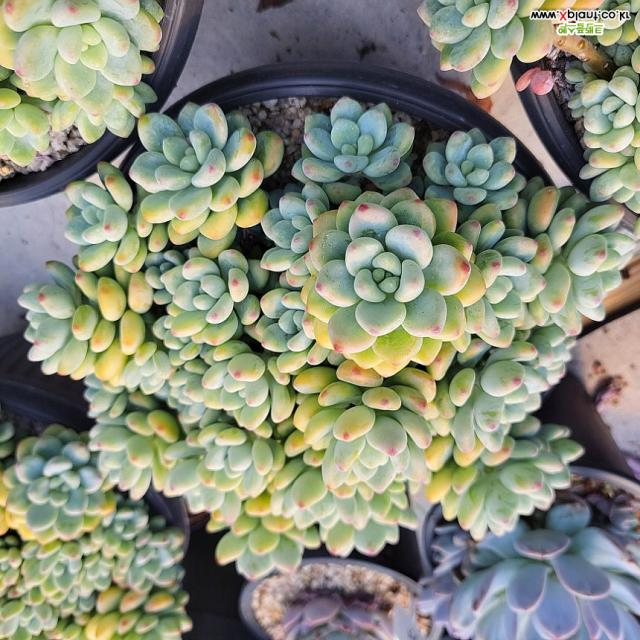LumiRose: (305, 189, 472, 378), (148, 251, 311, 430), (0, 0, 164, 142), (129, 102, 284, 252), (19, 261, 172, 395), (425, 415, 584, 540), (426, 324, 574, 452), (294, 361, 435, 494), (518, 187, 634, 336), (0, 423, 116, 544), (245, 457, 416, 530), (165, 422, 285, 521), (261, 182, 330, 352), (292, 98, 414, 191), (460, 219, 546, 348), (86, 386, 181, 500), (65, 162, 152, 272), (215, 492, 321, 580), (422, 129, 525, 210), (0, 536, 60, 640), (320, 520, 399, 556), (206, 511, 226, 532)
